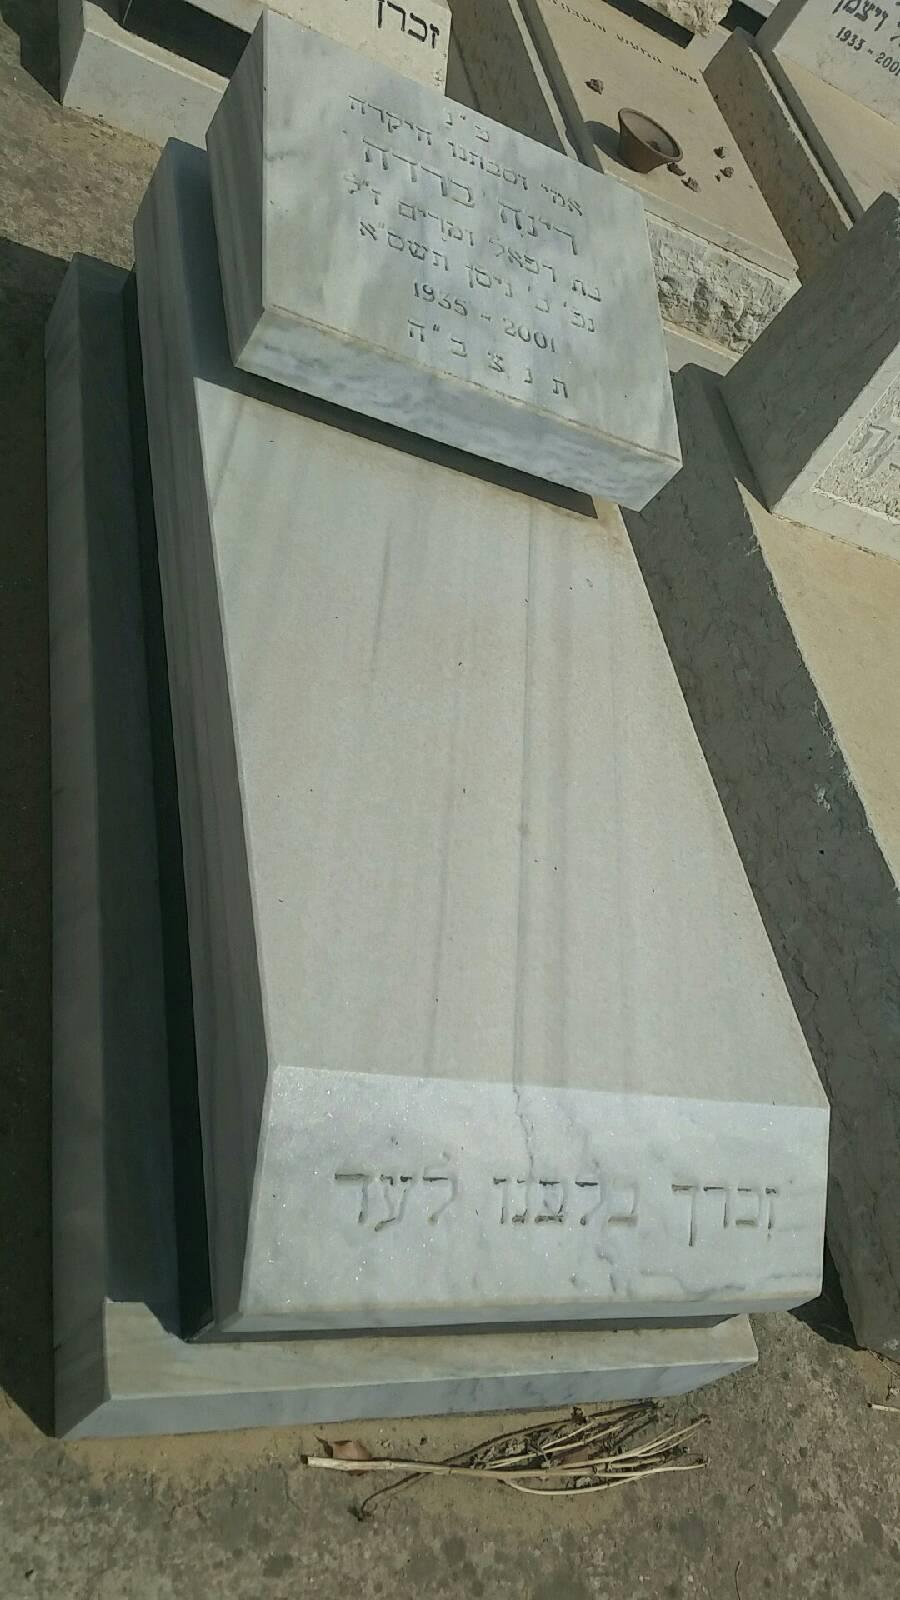vault: (38, 16, 851, 1473)
